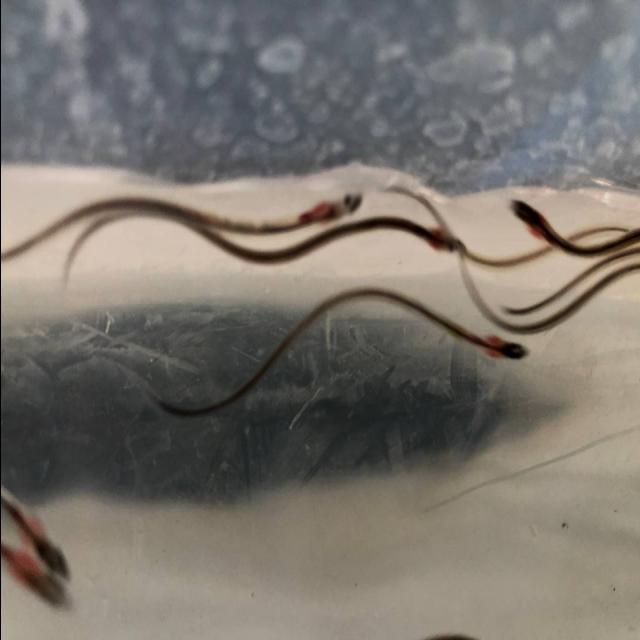glass_eel: (10, 500, 86, 582), (0, 536, 72, 622), (298, 173, 372, 254), (404, 210, 476, 275), (498, 185, 556, 243), (476, 321, 534, 375)
